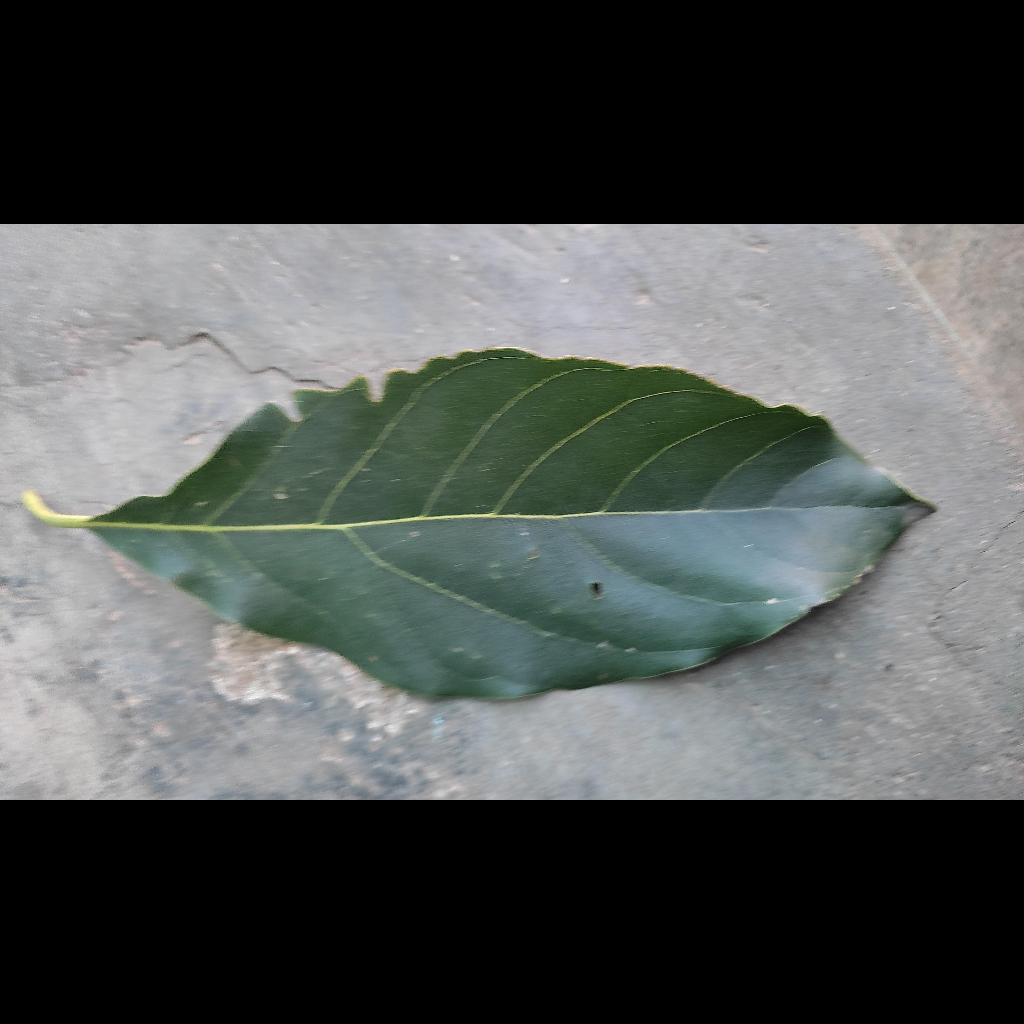Healthy: (182, 237, 802, 747)
